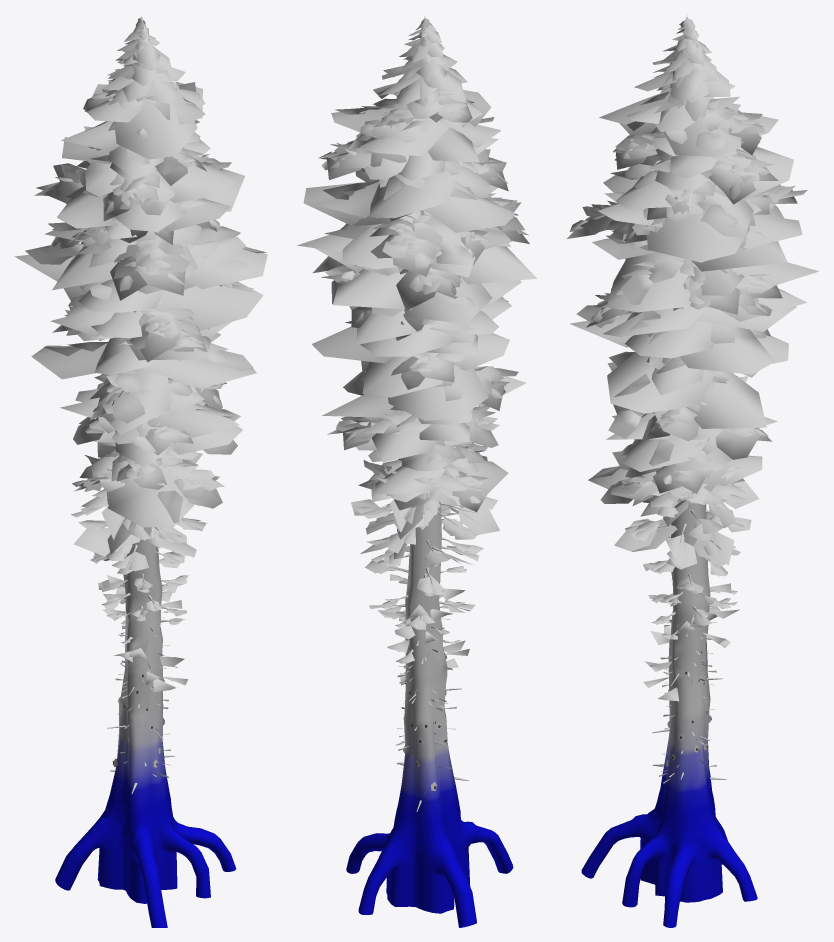
File: Redwood2_LOD1.fbx
3 renders of one model, left to right at view 1: azimuth 30°, elevation 25°; view 2: azimuth 150°, elevation 25°; view 3: azimuth 270°, elevation 25°, orthographic.
Visible parts, largest first — view 1: polySurface1443; view 2: polySurface1443; view 3: polySurface1443.
Part boxes in pixels (x1,y1,x2,y2): polySurface1443: [14, 15, 267, 927]; polySurface1443: [297, 15, 537, 927]; polySurface1443: [567, 15, 818, 927].
Bounding box in the file's own units: 477 × 1892 × 496.
